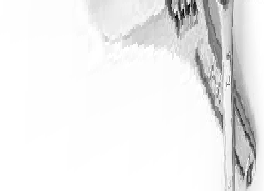Wrench: (115, 1, 254, 179)
